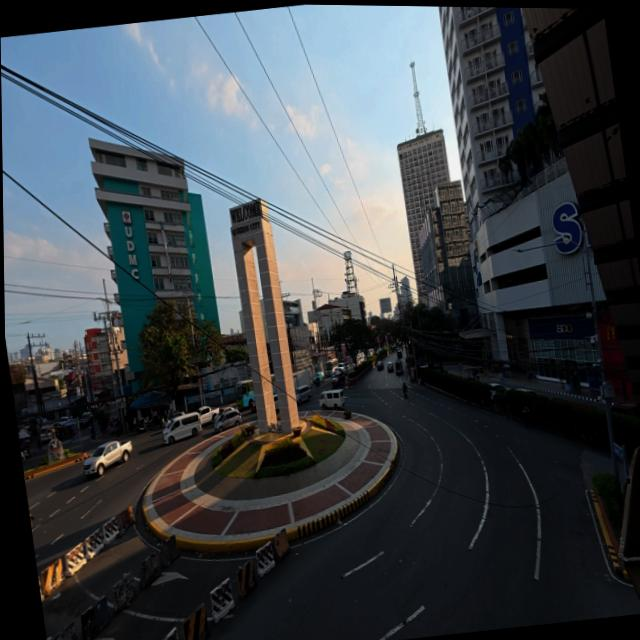Jeepneys: (394, 360, 403, 375)
car: (214, 409, 241, 432), (214, 406, 239, 425), (163, 411, 185, 431), (490, 383, 507, 401), (40, 426, 54, 443), (79, 412, 93, 428), (332, 372, 345, 388), (515, 388, 539, 395), (313, 372, 325, 383), (248, 399, 257, 413), (338, 363, 348, 374), (58, 417, 69, 426), (250, 401, 257, 413), (396, 346, 403, 358), (366, 348, 373, 358), (376, 361, 383, 371), (21, 449, 26, 462), (387, 362, 393, 372)
motorcycle: (136, 420, 148, 433), (23, 446, 30, 457), (90, 428, 96, 439), (403, 384, 408, 397), (30, 513, 34, 529)
trucks: (83, 441, 132, 478), (198, 406, 219, 426), (293, 369, 311, 388)
vans: (163, 413, 201, 443), (320, 389, 345, 409), (296, 385, 311, 403)
